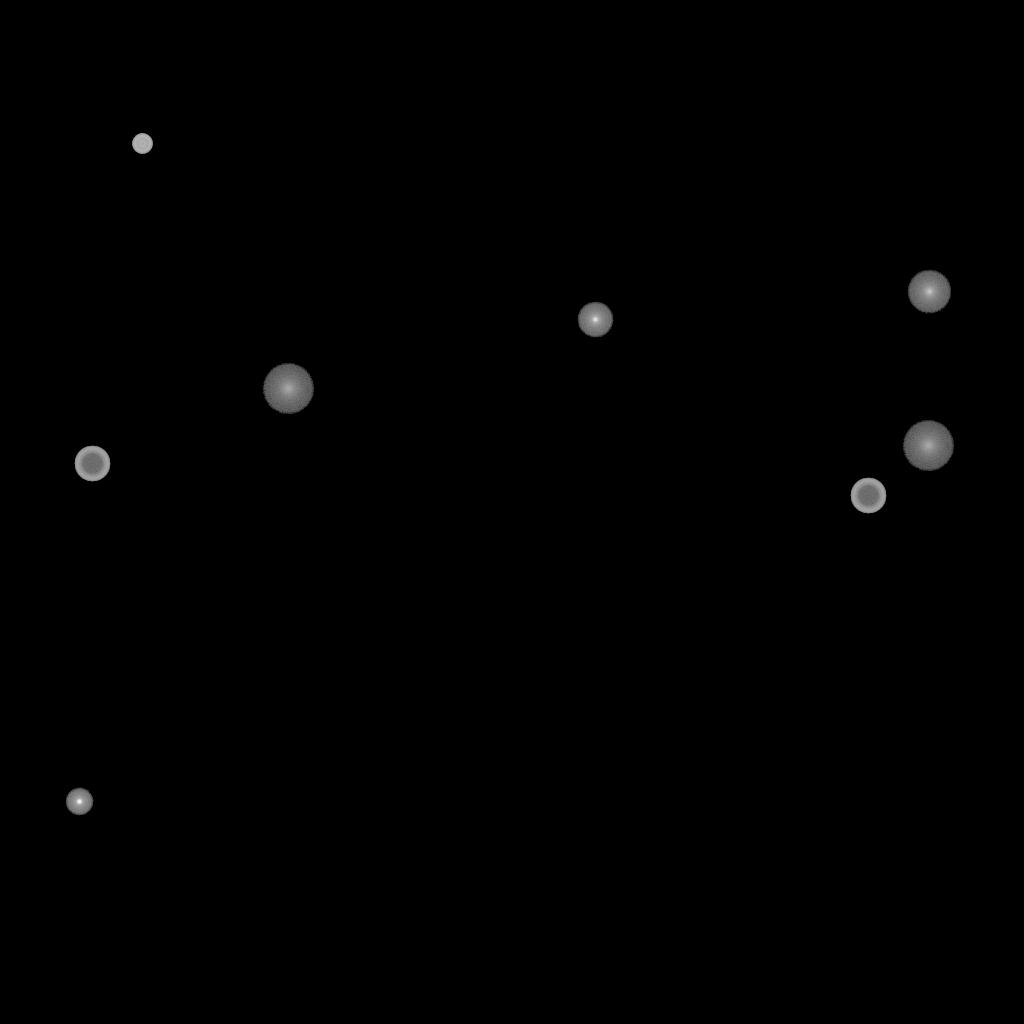depth:-10: (65, 788, 93, 816)
depth:-40: (132, 134, 152, 154)
depth:-60: (850, 478, 886, 514), (74, 446, 110, 482)
depth:0: (577, 302, 613, 338)
depth:10: (907, 270, 951, 314)
depth:20: (262, 364, 314, 414), (902, 421, 954, 471)
